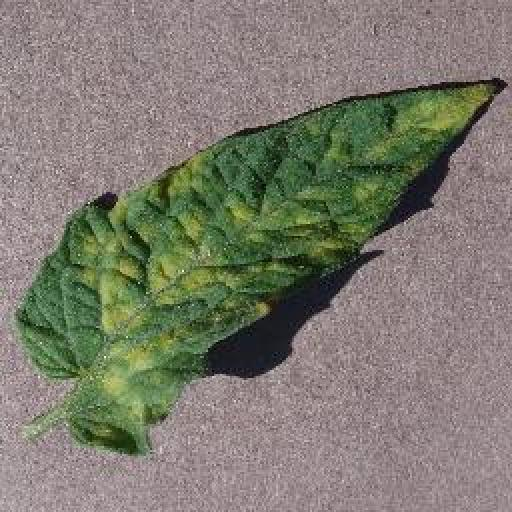disease_tomato: (20, 80, 494, 450)
